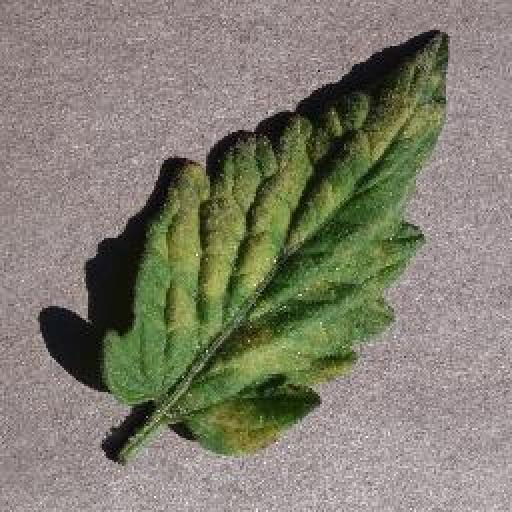Leaf Mold: (104, 28, 451, 457)
